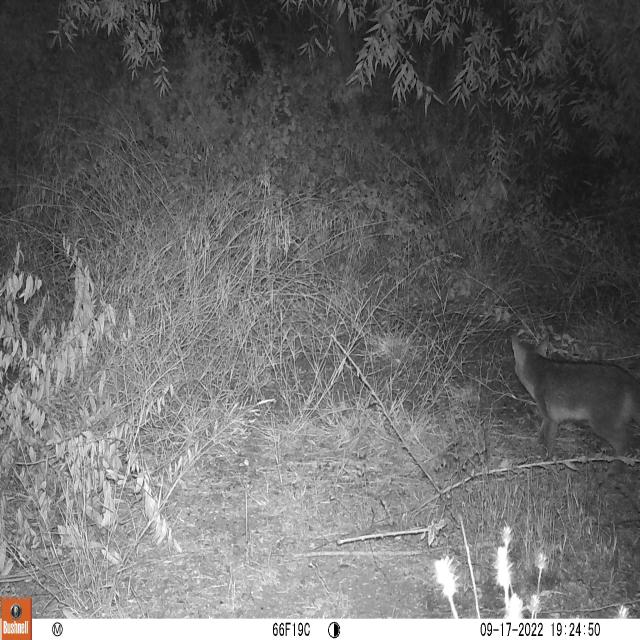Fox: (503, 324, 640, 466)
